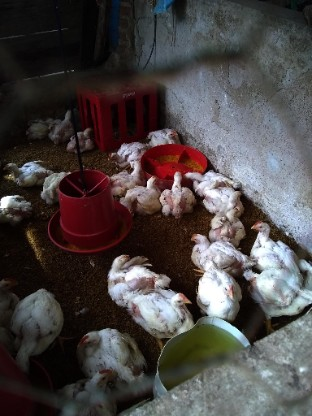Pollos: (12, 287, 68, 372), (244, 268, 312, 327), (54, 360, 118, 416), (125, 290, 195, 339), (192, 261, 252, 318), (77, 328, 145, 369), (107, 249, 166, 293), (248, 211, 300, 259), (189, 227, 241, 263), (118, 174, 164, 214), (160, 169, 196, 219), (182, 163, 239, 192), (42, 168, 82, 205), (2, 156, 47, 188), (209, 207, 245, 245), (0, 192, 35, 231), (0, 273, 23, 331), (200, 186, 242, 216), (108, 158, 146, 191), (49, 105, 81, 143), (65, 124, 99, 154), (23, 110, 49, 147), (106, 140, 145, 164), (147, 126, 183, 149)
